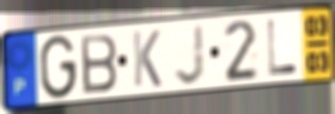2: (222, 18, 262, 84)
B: (78, 31, 120, 96)
G: (39, 33, 79, 102)
J: (172, 22, 207, 88)
K: (130, 28, 163, 90)
L: (265, 17, 299, 78)
